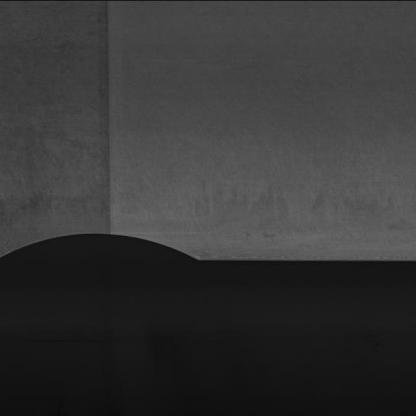crescent_gap: (0, 219, 218, 280)
welding_line: (82, 0, 120, 242)
